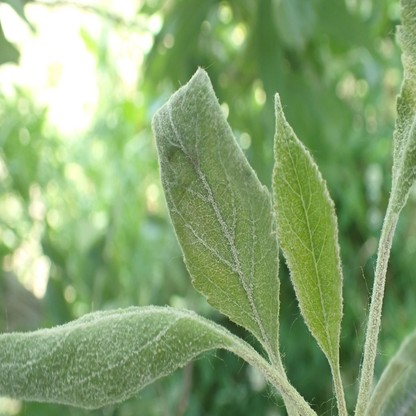powdery_mildew: (153, 67, 279, 354), (0, 305, 219, 409), (273, 93, 342, 353), (389, 0, 416, 212)
